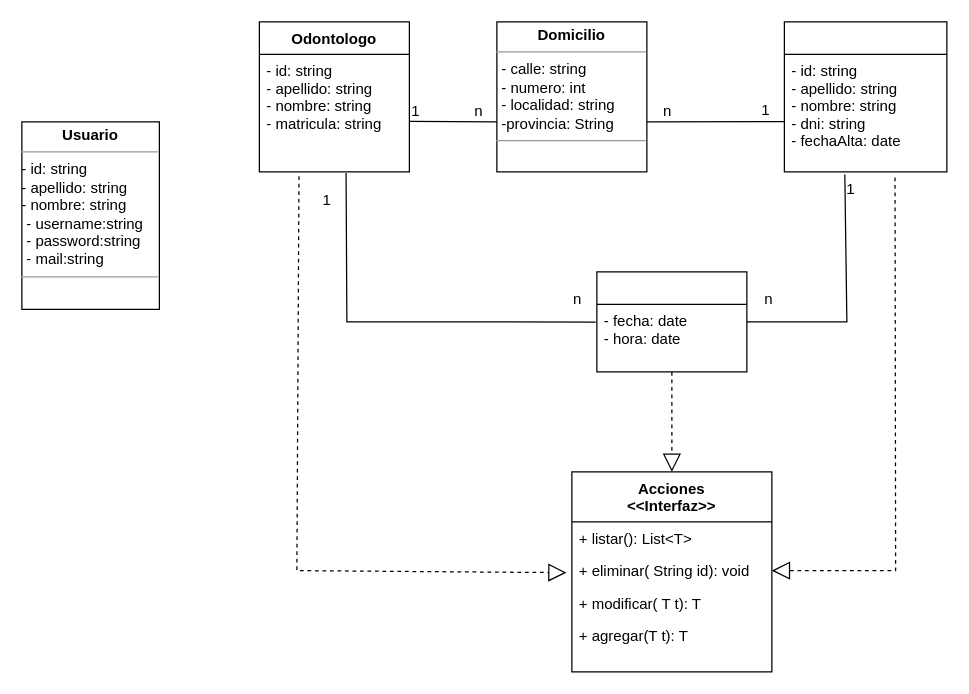
Some shapes in this 969 by 694 pixel diagram are drawn without their labels. Here are the shapes that lost their labels. From the top down, the box of each, then its label:
(783, 21, 947, 172): Paciente
(596, 271, 747, 372): Turno
